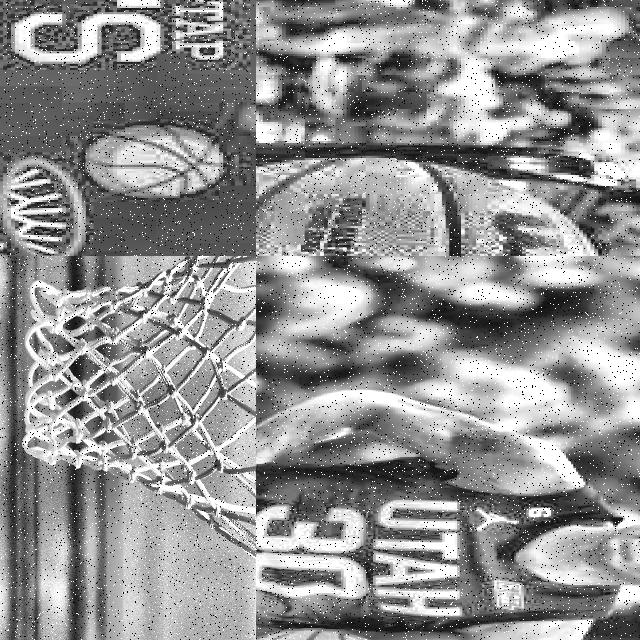Basketball: (256, 158, 597, 256), (83, 126, 226, 200)
